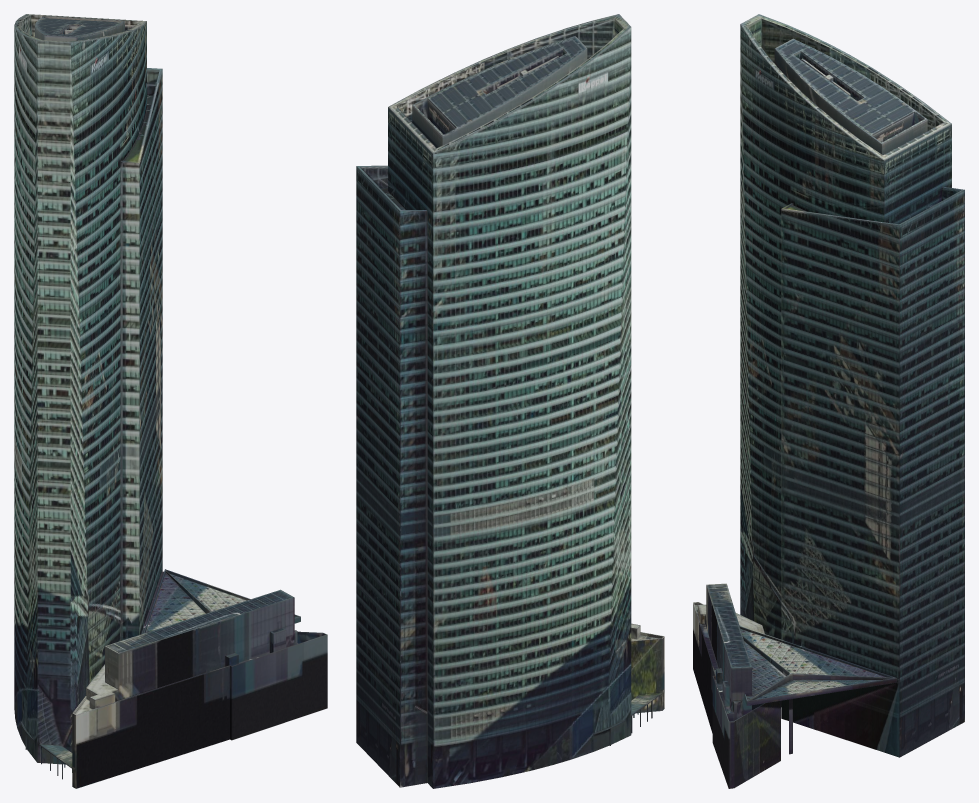
3 renders of one model, left to right at view 1: azimuth 30°, elevation 25°; view 2: azimuth 150°, elevation 25°; view 3: azimuth 270°, elevation 25°, orthographic. The views are drawn at different scales.
Visible parts, largest first — view 1: 9_0.glb; view 2: 9_0.glb; view 3: 9_0.glb.
Part boxes in pixels (<box>): 9_0.glb: <box>14,14,327,788</box>; 9_0.glb: <box>356,14,664,788</box>; 9_0.glb: <box>693,14,964,788</box>.
Bounding box in the file's own units: 96.06 × 242 × 91.28.
Materials: 2 (2 with a texture image).
